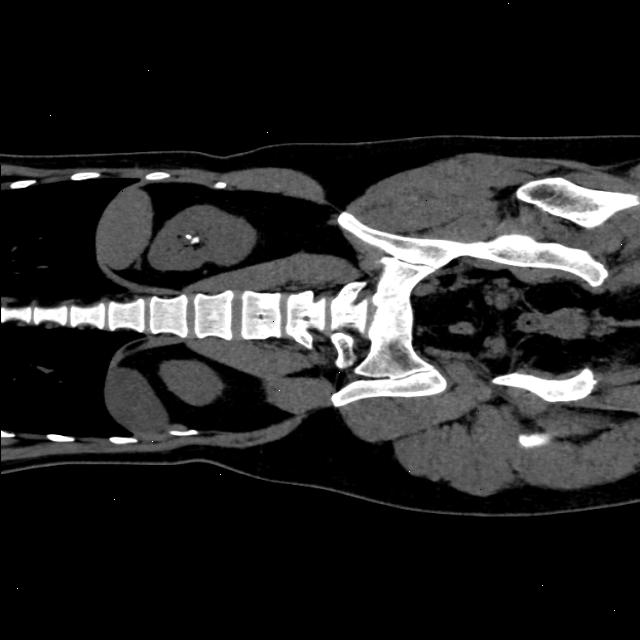kidneystone: (186, 234, 201, 245)
